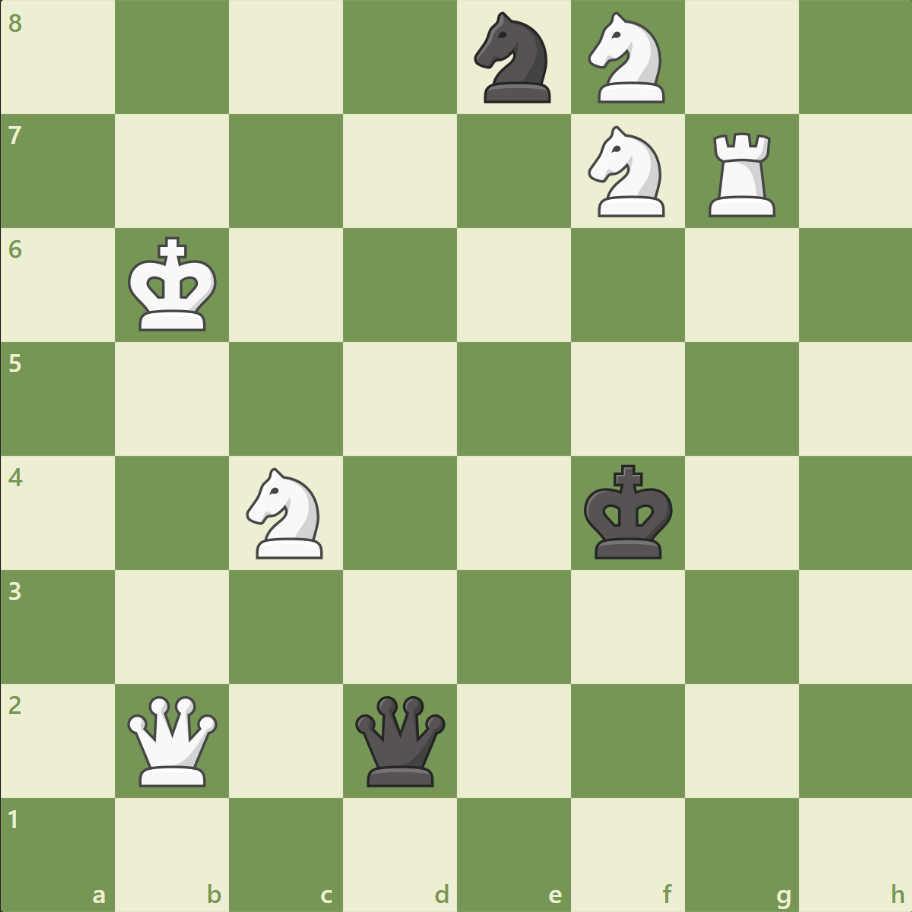K: (124, 231, 224, 339)
N: (579, 7, 676, 110), (238, 461, 335, 564), (579, 121, 676, 223)
Q: (124, 690, 223, 789)
R: (700, 125, 783, 222)
k: (579, 458, 679, 566)
n: (465, 7, 562, 110)
q: (351, 690, 450, 789)
